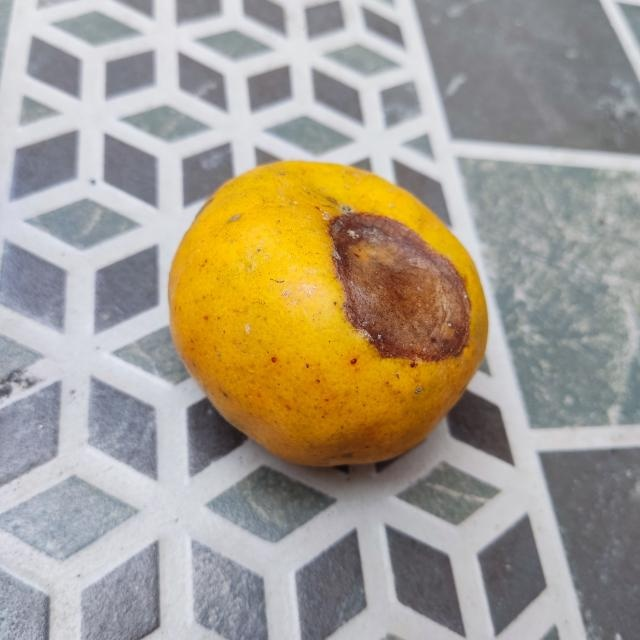agrume: (165, 160, 486, 468)
